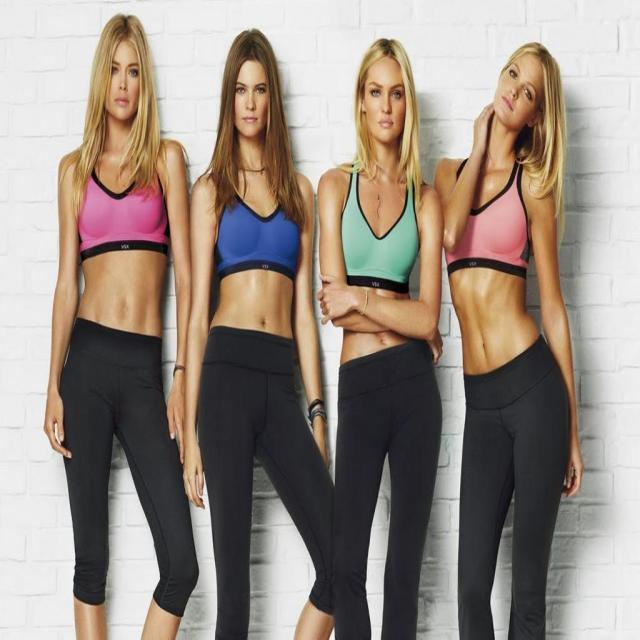Face: (221, 38, 288, 152), (93, 28, 154, 138), (354, 53, 423, 149), (490, 41, 553, 124)
